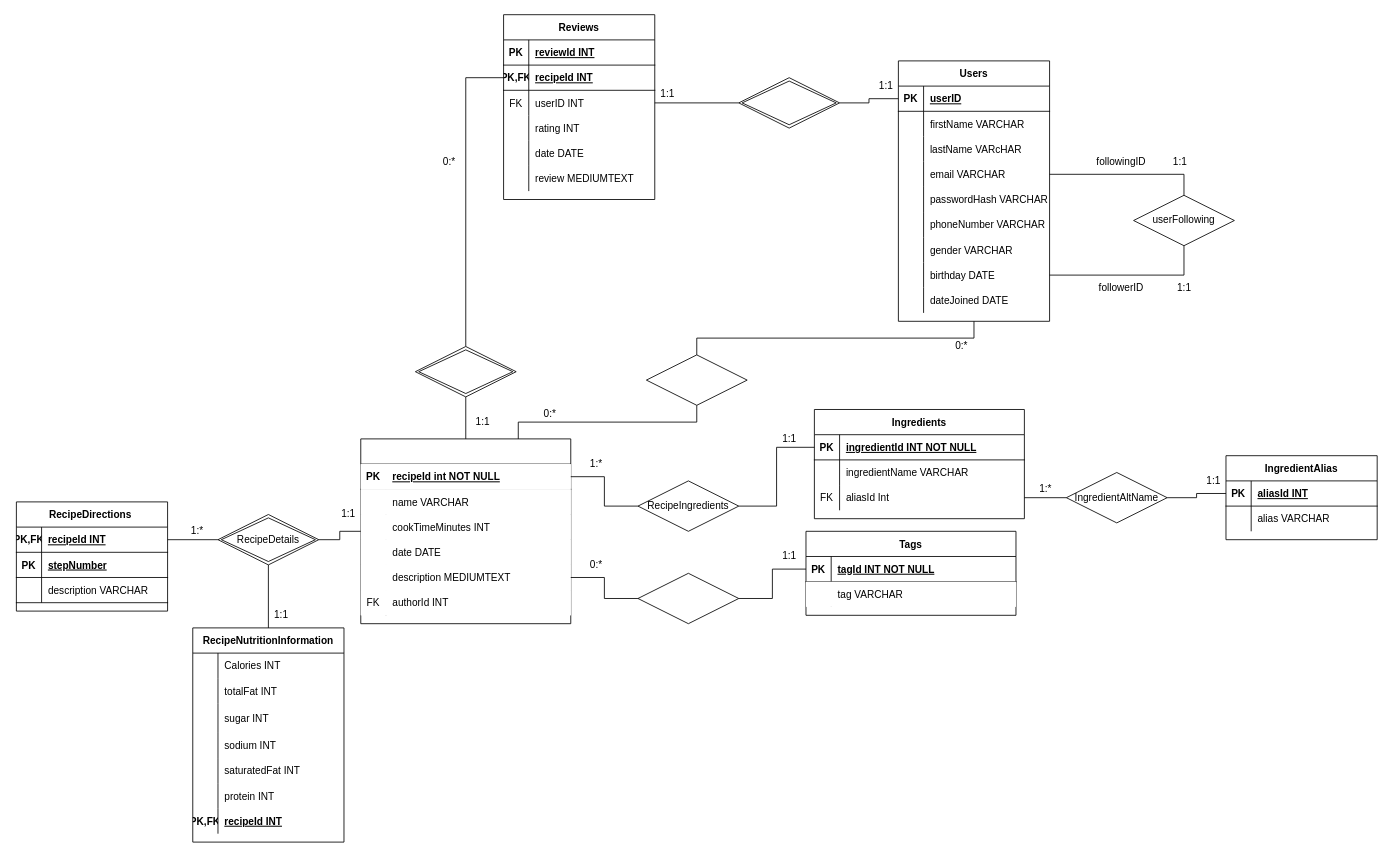
The diagram is 1392 pixels wide and 857 high, and some of its shapes have lost their labels. The box of each missing label's shape, as (x1, y1, x2, y2) in pixels:
RecipeReviews: (415, 346, 516, 397)
Recipes: (360, 438, 571, 624)
RecipeTags: (637, 572, 739, 624)
ReviewFromUser: (738, 77, 840, 128)
SavedRecipes: (646, 354, 747, 405)
